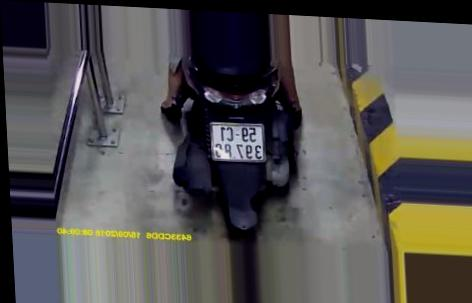License_Plate: (202, 115, 273, 173)
